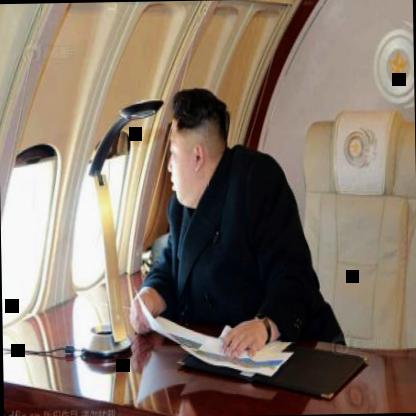head: (162, 84, 232, 198)
